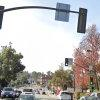traffic lights: (77, 7, 87, 34), (89, 76, 94, 86), (64, 57, 68, 68)
